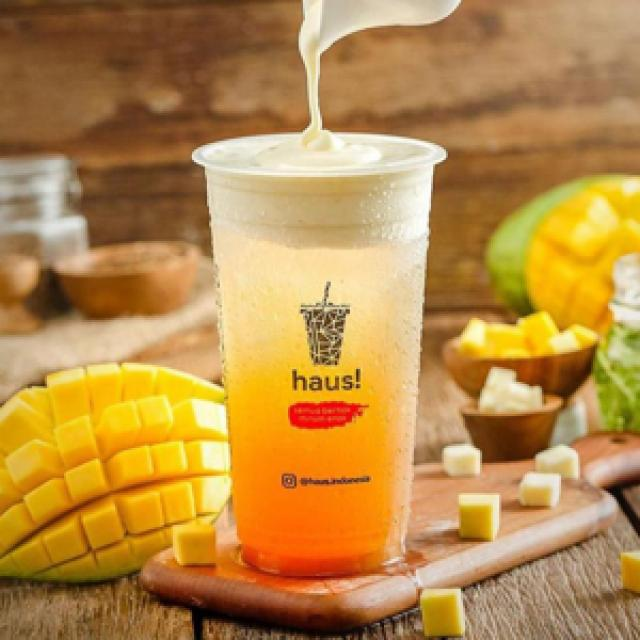plastic cup: (186, 121, 452, 584)
